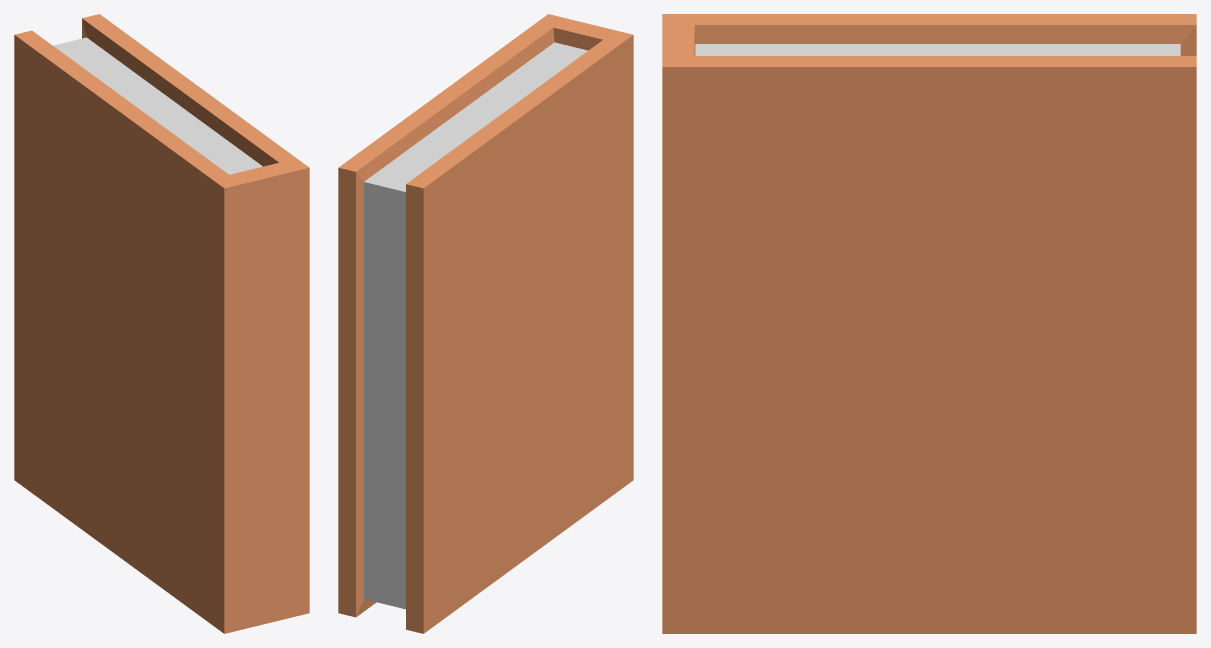
Rendered from bookOrange.fbx.
3 renders of one model, left to right at view 1: azimuth 30°, elevation 25°; view 2: azimuth 150°, elevation 25°; view 3: azimuth 270°, elevation 25°, orthographic. The views are drawn at different scales.
Parts seen in each view (by area): view 1: Book_01; view 2: Book_01; view 3: Book_01.
Part boxes in pixels (x1=…): Book_01: x1=14, y1=14, x2=309, y2=633; Book_01: x1=338, y1=14, x2=633, y2=633; Book_01: x1=662, y1=14, x2=1196, y2=633.
Bounding box in the file's own units: 9.58 × 47.91 × 40.92.
